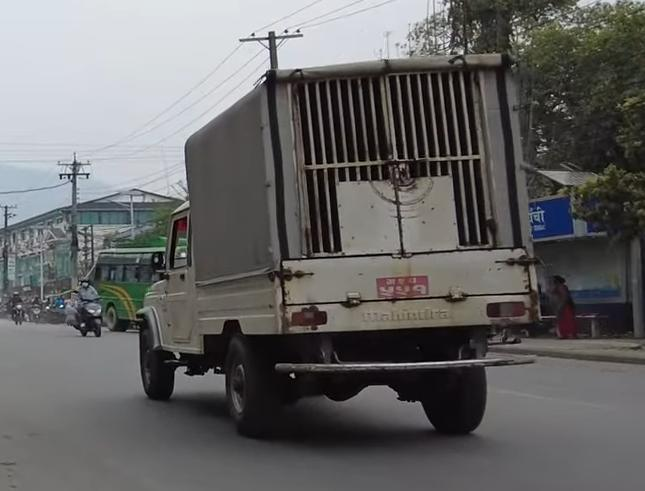bus: (94, 247, 223, 317)
scooter: (61, 281, 111, 338)
transport_vehicle: (117, 47, 531, 456)
